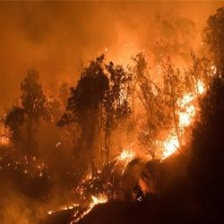fire: (152, 91, 195, 167), (114, 148, 138, 166), (88, 198, 109, 210)
